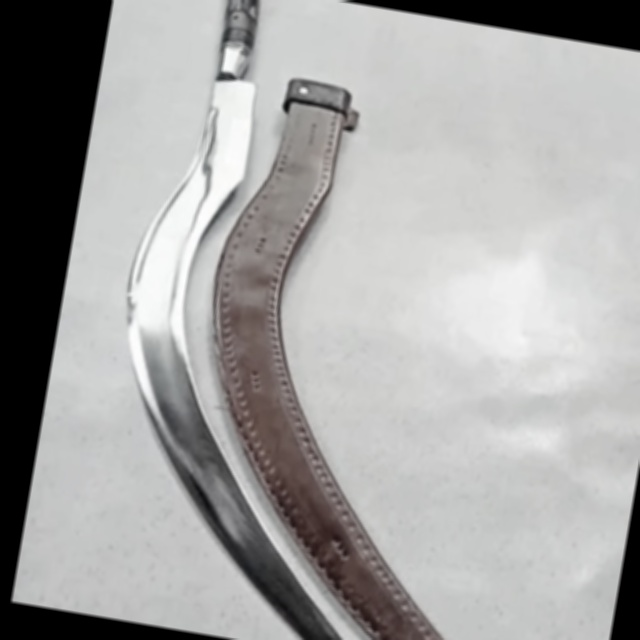Sharp-Object: (67, 0, 472, 640)
